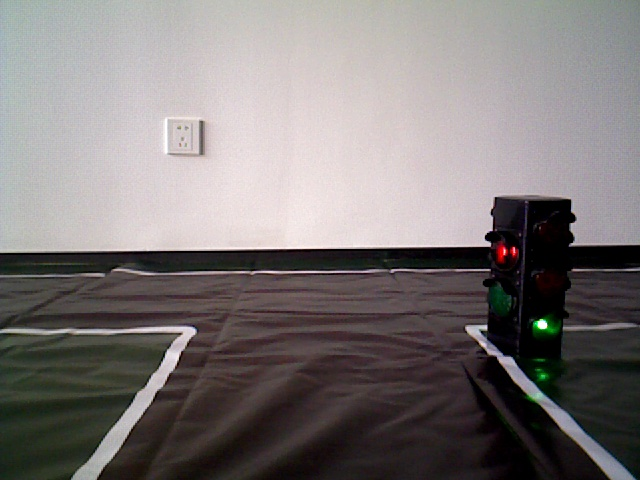green: (490, 198, 562, 347)
